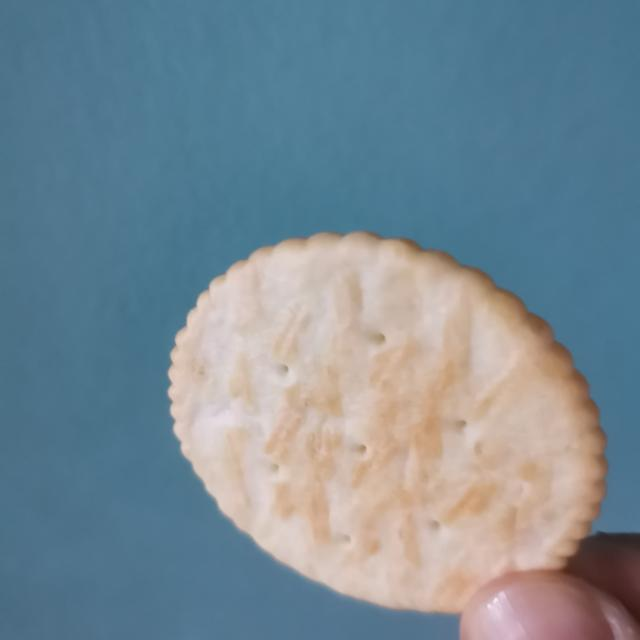Intact: (151, 226, 617, 620)
